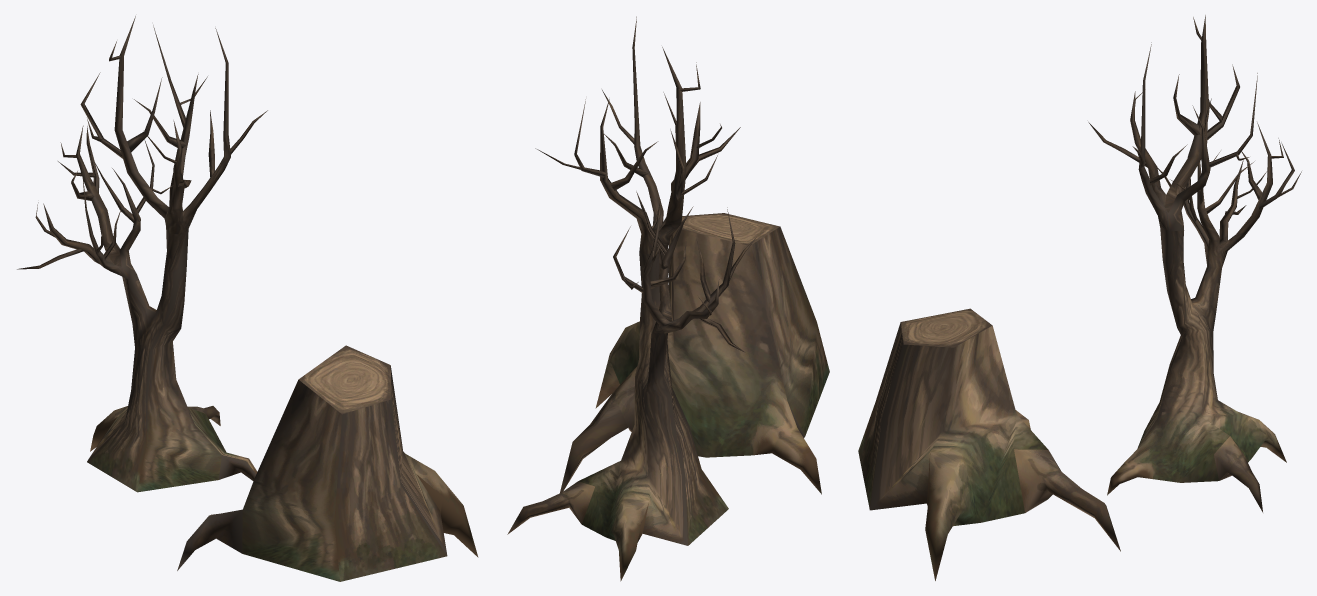
Rendered from plants_tall_tree_trunks206.fbx.
The picture shows the model from 3 angles, left to right: view 1: azimuth 30°, elevation 25°; view 2: azimuth 150°, elevation 25°; view 3: azimuth 270°, elevation 25°; orthographic projection. The views are drawn at different scales.
Visible parts, largest first — view 1: Material_#238683193/fancy_tree; view 2: Material_#238683193/fancy_tree; view 3: Material_#238683193/fancy_tree.
Boxes of the visible parts, <box> form: Material_#238683193/fancy_tree: <box>17,16,478,581</box>; Material_#238683193/fancy_tree: <box>507,16,829,581</box>; Material_#238683193/fancy_tree: <box>858,15,1301,580</box>.
Bounding box in the file's own units: 6.33 × 9.81 × 8.36.
